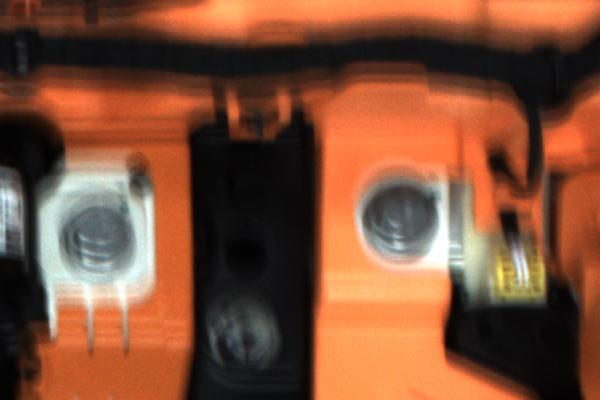nut_b: (339, 179, 438, 259), (53, 195, 135, 283)
